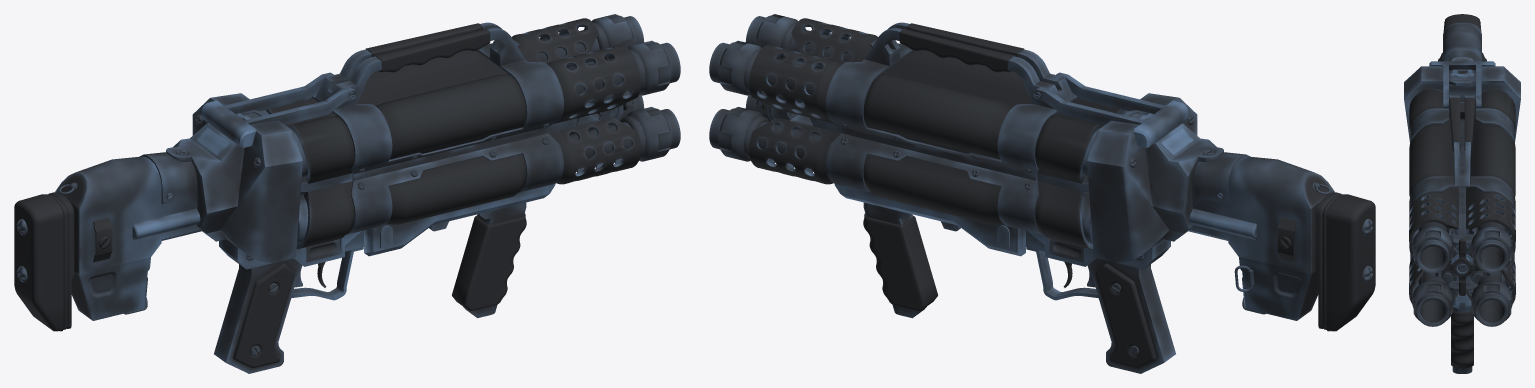
Rendered from Mid_BarrelRoll.glb.
The picture shows the model from 3 angles, left to right: view 1: azimuth 30°, elevation 25°; view 2: azimuth 150°, elevation 25°; view 3: azimuth 270°, elevation 25°; orthographic projection. The views are drawn at different scales.
Parts seen in each view (by area): view 1: QShotgun_Frame_Quad_Shotgun_0; view 2: QShotgun_Frame_Quad_Shotgun_0; view 3: QShotgun_Frame_Quad_Shotgun_0.
Boxes of the visible parts, x1,y1,x2,y2 form: QShotgun_Frame_Quad_Shotgun_0: (14, 14, 680, 373); QShotgun_Frame_Quad_Shotgun_0: (709, 14, 1375, 373); QShotgun_Frame_Quad_Shotgun_0: (1404, 14, 1520, 373).
Bounding box in the file's own units: 101 × 43.35 × 20.01.
Materials: 2 (2 with a texture image).
